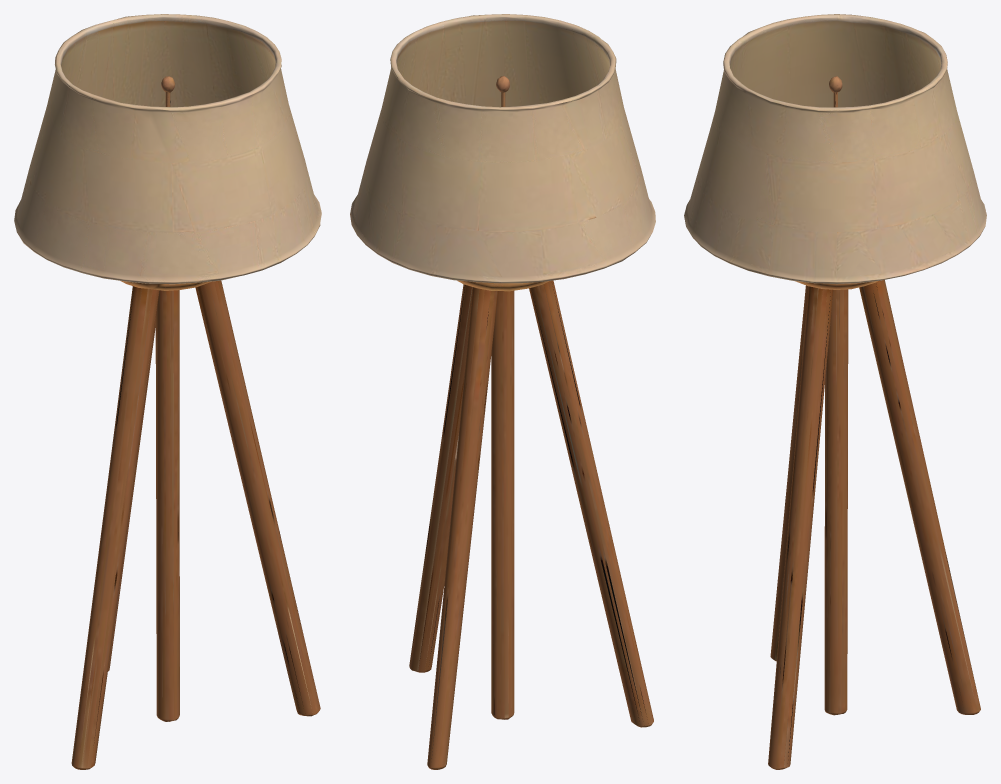
Rendered from floorlamp.tripod.glb.
3 renders of one model, left to right at view 1: azimuth 30°, elevation 25°; view 2: azimuth 150°, elevation 25°; view 3: azimuth 270°, elevation 25°, orthographic.
Parts seen in each view (by area): view 1: geometry_0; view 2: geometry_0; view 3: geometry_0.
Boxes of the visible parts, left/top/right/bottom form: geometry_0: left=14, top=14, right=321, bottom=769; geometry_0: left=350, top=14, right=655, bottom=769; geometry_0: left=684, top=14, right=986, bottom=769.
Size of the model in its own units: 0.4288 by 1 by 0.422.
Materials: 1 (1 with a texture image).
